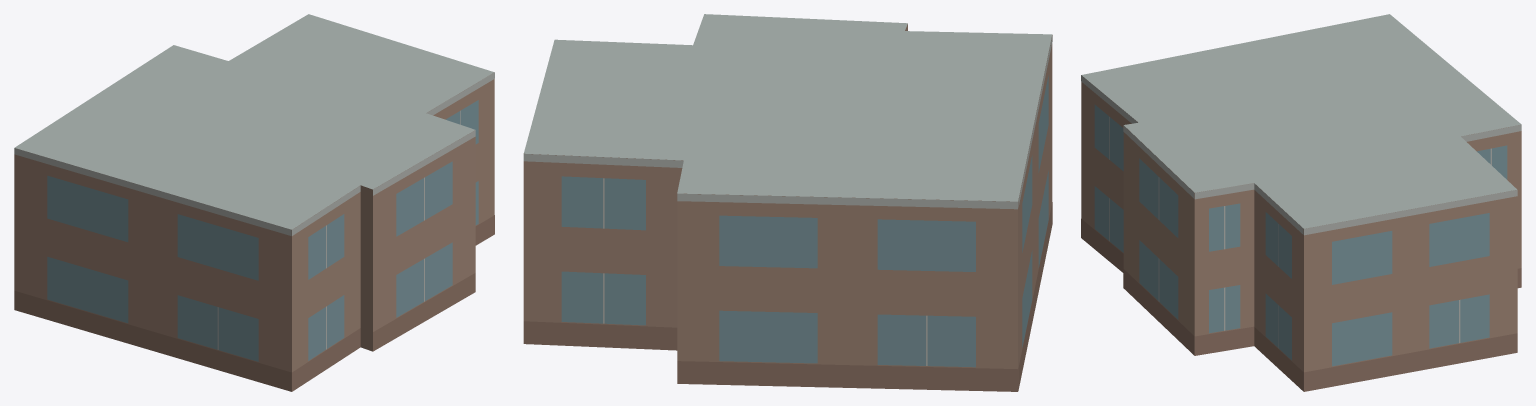
File: survey-upis-32836898.glb
The picture shows the model from 3 angles, left to right: view 1: azimuth 30°, elevation 25°; view 2: azimuth 150°, elevation 25°; view 3: azimuth 270°, elevation 25°; orthographic projection. The views are drawn at different scales.
Parts seen in each view (by area): view 1: survey-upis-32836898.tmp; view 2: survey-upis-32836898.tmp; view 3: survey-upis-32836898.tmp.
Part boxes in pixels (x1,y1,x2,y2): survey-upis-32836898.tmp: [14, 14, 494, 391]; survey-upis-32836898.tmp: [523, 14, 1052, 391]; survey-upis-32836898.tmp: [1081, 14, 1521, 391].
Size of the model in its own units: 17.25 by 6.1 by 14.94.
